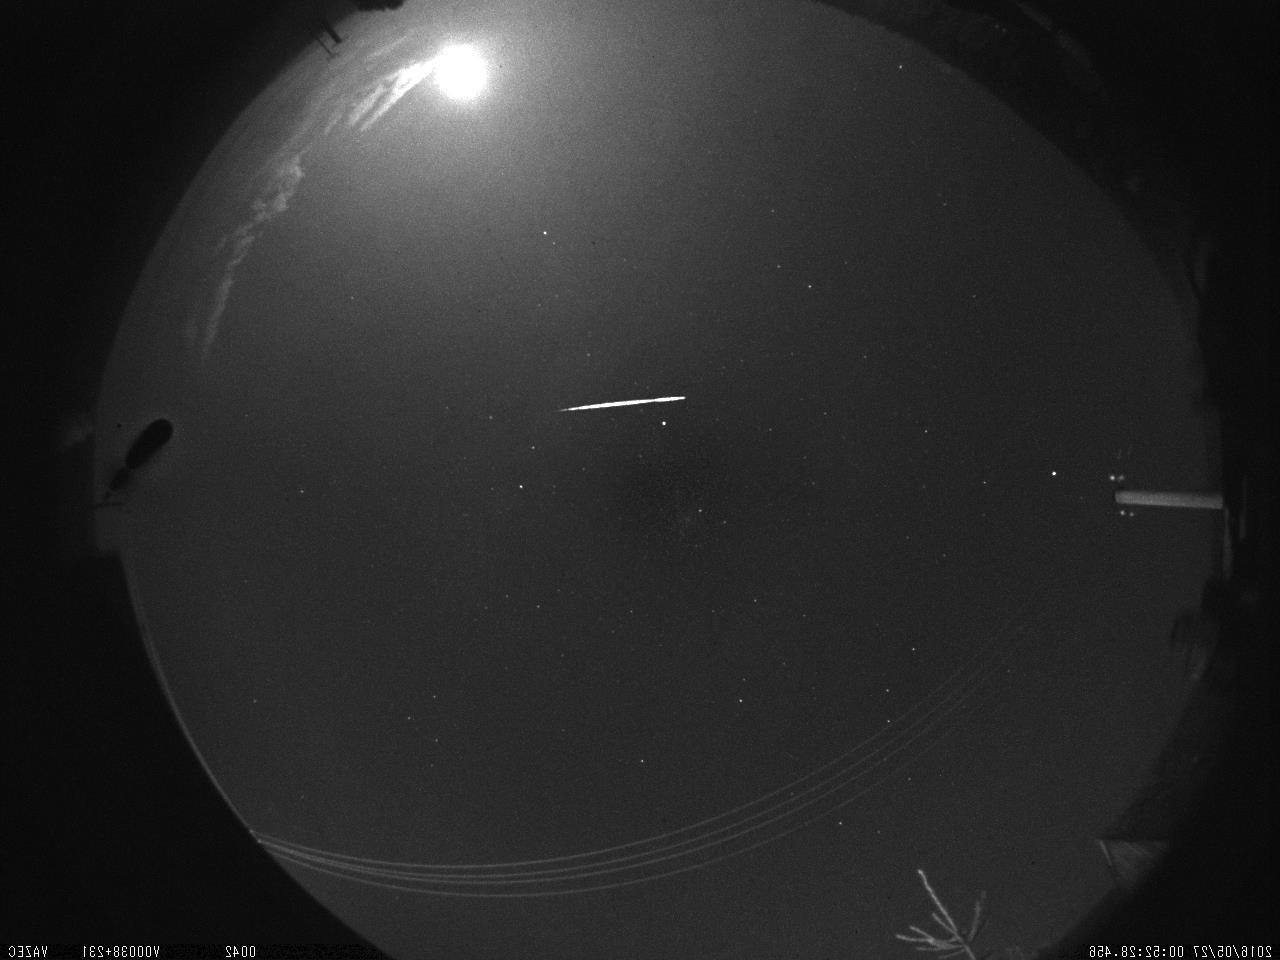meteor: (552, 388, 692, 420)
